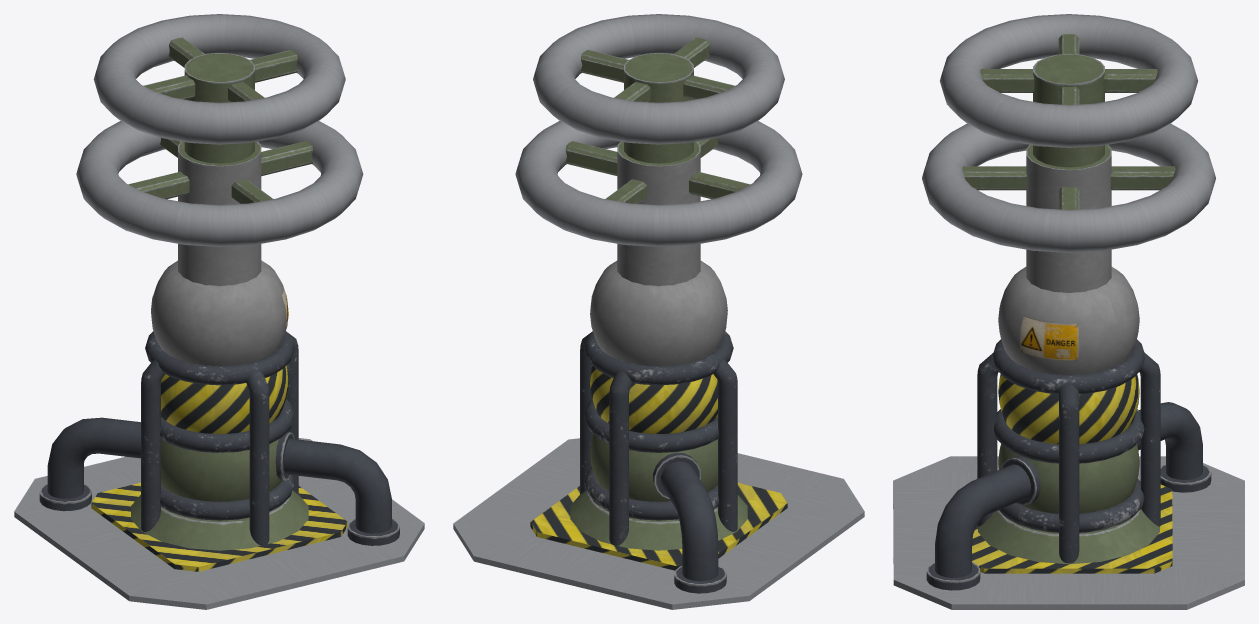
Rendered from Tesla.fbx.
3 renders of one model, left to right at view 1: azimuth 30°, elevation 25°; view 2: azimuth 150°, elevation 25°; view 3: azimuth 270°, elevation 25°, orthographic. The views are drawn at different scales.
Parts seen in each view (by area): view 1: Tesla; view 2: Tesla; view 3: Tesla.
Boxes of the visible parts, x1=… form: Tesla: x1=14, y1=14, x2=424, y2=609; Tesla: x1=453, y1=14, x2=864, y2=609; Tesla: x1=893, y1=14, x2=1244, y2=609.
Bounding box in the file's own units: 133 × 199 × 134.
